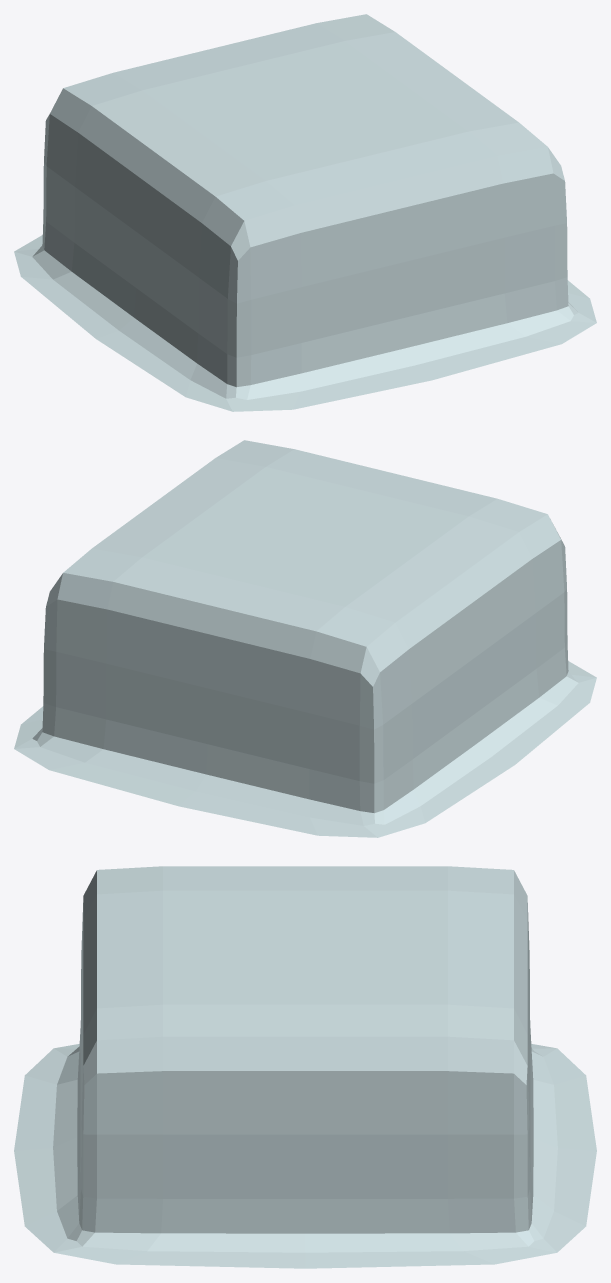
File: SnowHill.fbx
3 renders of one model, top to bottom at view 1: azimuth 30°, elevation 25°; view 2: azimuth 150°, elevation 25°; view 3: azimuth 270°, elevation 25°, orthographic. The views are drawn at different scales.
Parts seen in each view (by area): view 1: SnowHill; view 2: SnowHill; view 3: SnowHill.
Boxes of the visible parts, bbox=[...] form: SnowHill: bbox=[14, 14, 596, 411]; SnowHill: bbox=[14, 440, 596, 837]; SnowHill: bbox=[14, 866, 596, 1268].
Size of what is drawn, in the model's own units: 12.4 by 12.97 by 5.
